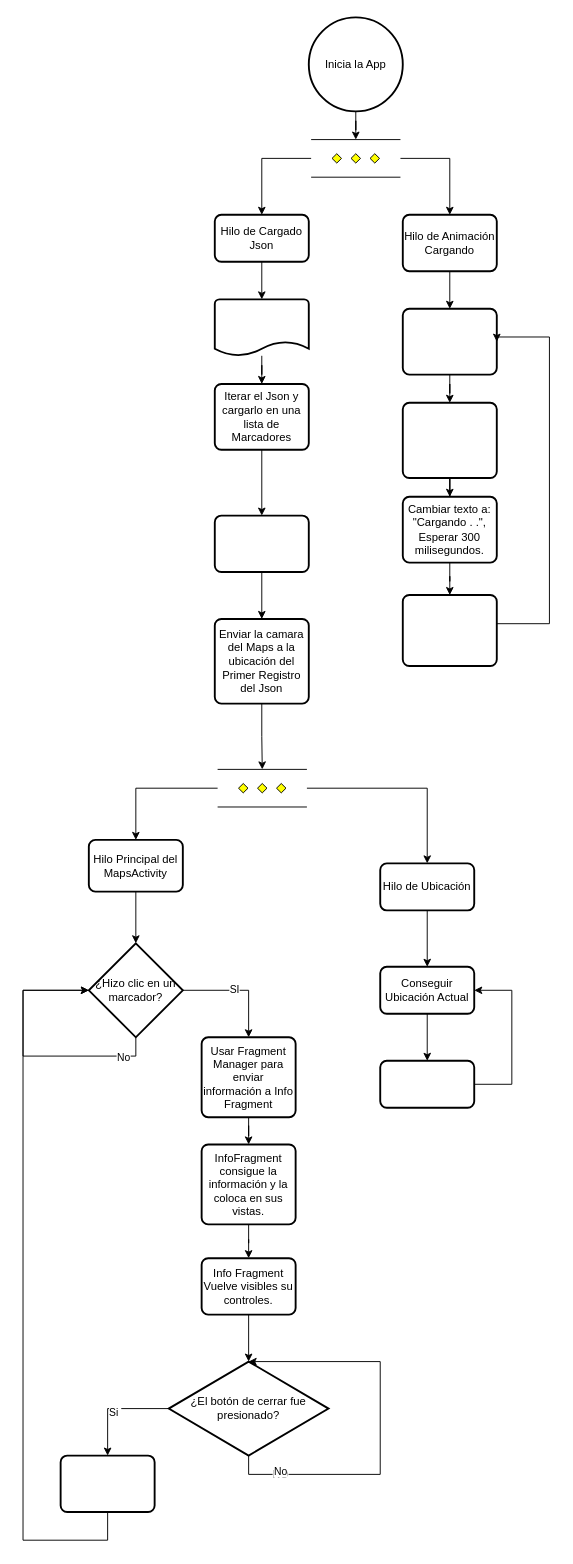
This 573x1564 diagram has some shape labels left out. Here are the shapes that lost their labels. From the top down, the centre of each, then its label:
point 261,327: Leer JSON de Api Web
point 449,341: Cambiar texto a: "Cargando", Esperar 300 milisegundos.
point 449,439: Cambiar texto a: "Cargando .", Esperar 300 milisegundos.
point 261,543: Iniciar Maps Activity
point 449,630: Cambiar texto a: "Cargando . . .", Esperar 300 milisegundos.
point 427,1083: Mover A Ubicación Actual
point 107,1483: InfoFragment Vuelve invisibles sus controles.
